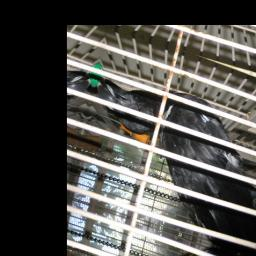Crow: (71, 65, 256, 256)
